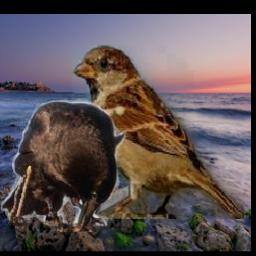Crow: (0, 98, 128, 232)
Sparrow: (73, 46, 245, 220)
